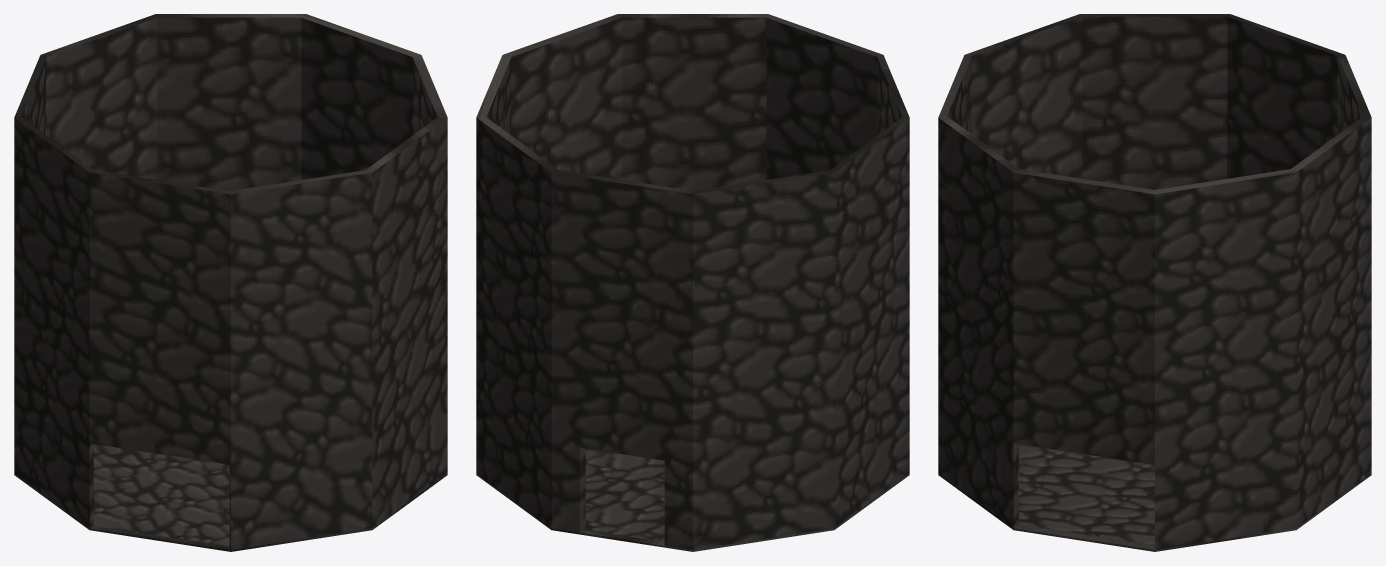
File: CircleTemple.fbx
3 renders of one model, left to right at view 1: azimuth 30°, elevation 25°; view 2: azimuth 150°, elevation 25°; view 3: azimuth 270°, elevation 25°, orthographic.
Parts seen in each view (by area): view 1: CircleTemple; view 2: CircleTemple; view 3: CircleTemple.
Part boxes in pixels (left/top/right/bottom): CircleTemple: left=14, top=14, right=447, bottom=551; CircleTemple: left=476, top=14, right=909, bottom=551; CircleTemple: left=938, top=14, right=1371, bottom=551.
Bounding box in the file's own units: 22.62 × 20.91 × 22.97.
